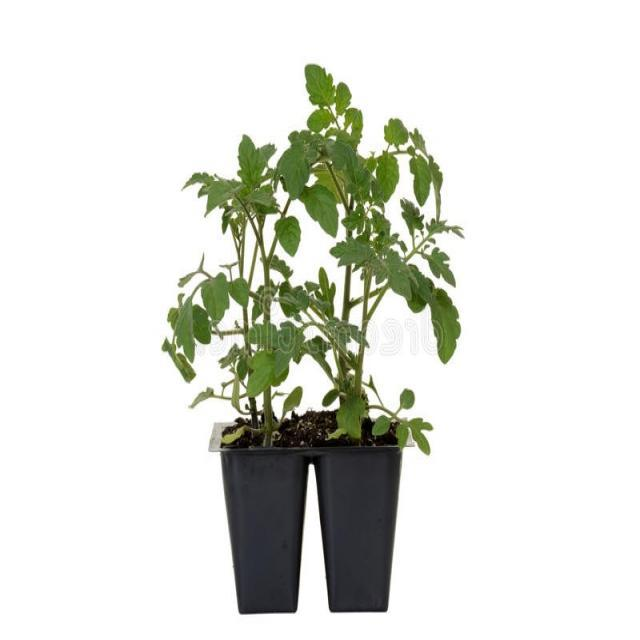tomato: (271, 83, 461, 473), (165, 138, 308, 449)
